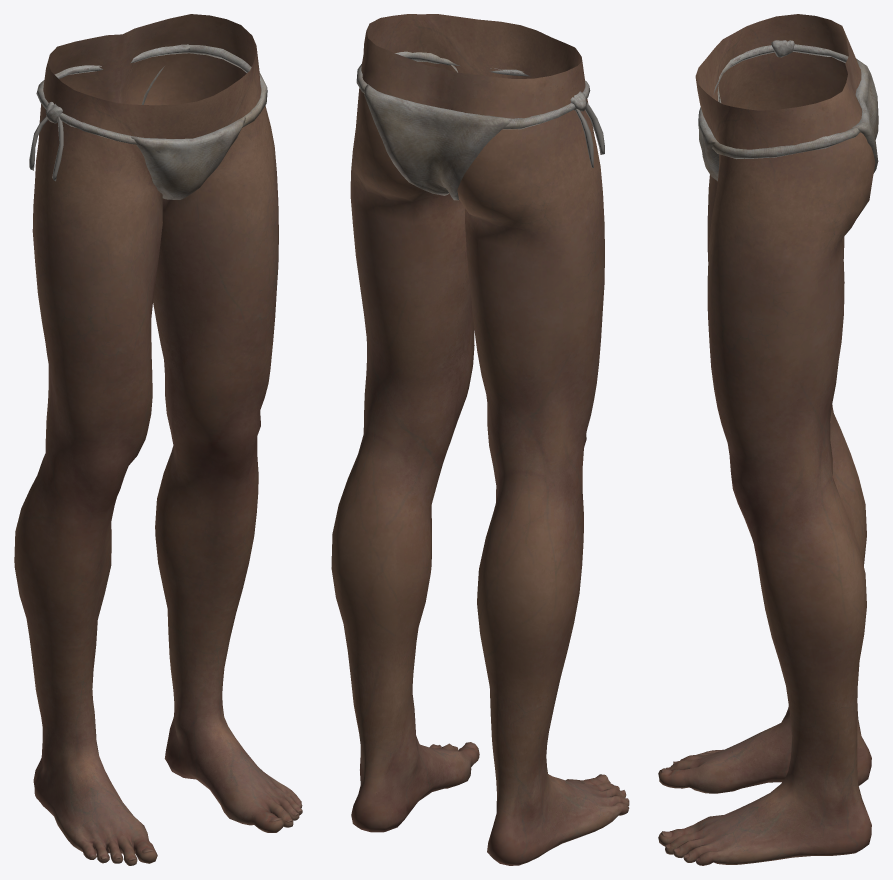
The model's file is Piernas.glb.
3 renders of one model, left to right at view 1: azimuth 30°, elevation 25°; view 2: azimuth 150°, elevation 25°; view 3: azimuth 270°, elevation 25°, orthographic. The views are drawn at different scales.
Visible parts, largest first — view 1: #12#|P[FC_M_0000]_Body.matxml|mesh9, #14#|P[FC_M_0000]_Body.matxml|mesh11, #16#|P[FC_M_0000]_Body.matxml|mesh13, #15#|P[FC_M_0000]_Body.matxml|mesh12, LG_M_0000_L; view 2: #12#|P[FC_M_0000]_Body.matxml|mesh9, #14#|P[FC_M_0000]_Body.matxml|mesh11, #15#|P[FC_M_0000]_Body.matxml|mesh12, #16#|P[FC_M_0000]_Body.matxml|mesh13, LG_M_0000_L; view 3: #12#|P[FC_M_0000]_Body.matxml|mesh9, #14#|P[FC_M_0000]_Body.matxml|mesh11, #16#|P[FC_M_0000]_Body.matxml|mesh13, #15#|P[FC_M_0000]_Body.matxml|mesh12, LG_M_0000_L.
Boxes of the visible parts, <box> form: #12#|P[FC_M_0000]_Body.matxml|mesh9: <box>32,14,278,395</box>; #14#|P[FC_M_0000]_Body.matxml|mesh11: <box>14,344,272,613</box>; #16#|P[FC_M_0000]_Body.matxml|mesh13: <box>33,694,302,865</box>; #15#|P[FC_M_0000]_Body.matxml|mesh12: <box>19,563,248,744</box>; LG_M_0000_L: <box>29,44,267,199</box>; #12#|P[FC_M_0000]_Body.matxml|mesh9: <box>350,14,604,385</box>; #14#|P[FC_M_0000]_Body.matxml|mesh11: <box>331,326,598,648</box>; #15#|P[FC_M_0000]_Body.matxml|mesh12: <box>336,598,572,787</box>; #16#|P[FC_M_0000]_Body.matxml|mesh13: <box>351,735,629,865</box>; LG_M_0000_L: <box>356,51,604,200</box>; #12#|P[FC_M_0000]_Body.matxml|mesh9: <box>695,14,875,412</box>; #14#|P[FC_M_0000]_Body.matxml|mesh11: <box>714,385,866,651</box>; #16#|P[FC_M_0000]_Body.matxml|mesh13: <box>658,707,871,865</box>; #15#|P[FC_M_0000]_Body.matxml|mesh12: <box>772,638,862,780</box>; LG_M_0000_L: <box>698,40,878,181</box>.
Bounding box in the file's own units: 0.3399 × 1.07 × 0.2801.
4 materials, 4 textured.
